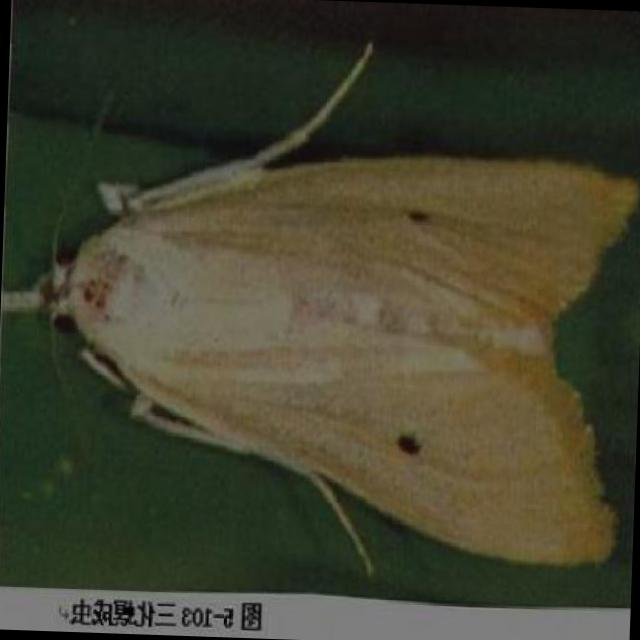stem-borer: (0, 28, 640, 586)
